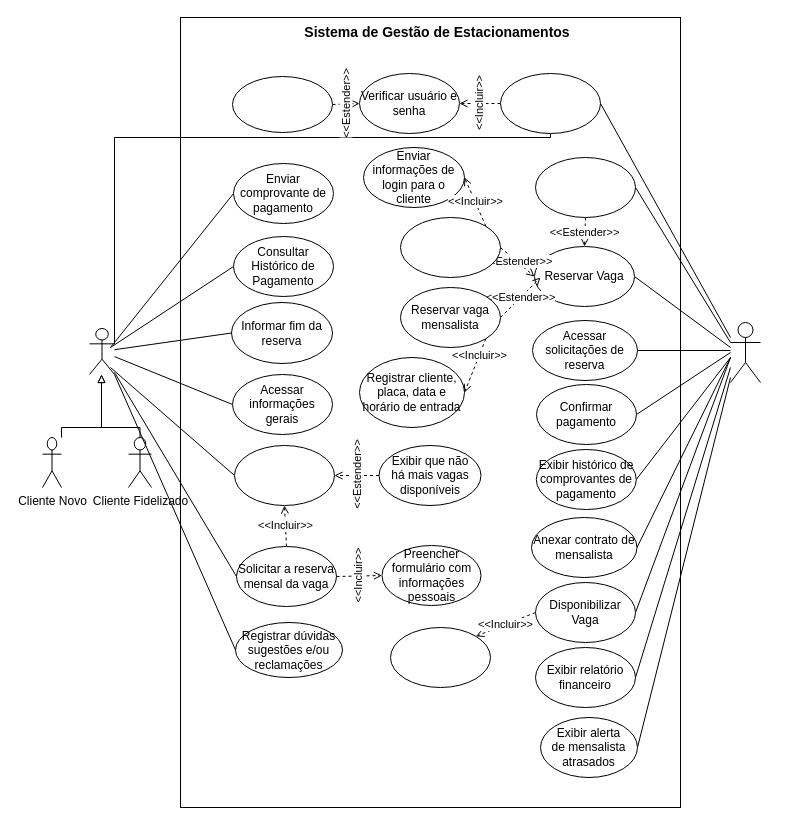
Some shapes in this 799 by 825 pixel diagram are drawn without their labels. Here are the shapes that lost their labels. From the top down, the centre of each, then its label:
At (282,104): "Informar erro de autenticação".
At (550,103): "Fazer Login".
At (585,187): "Cadastrar Cliente".
At (450,247): "Reservar vaga temporária".
At (101,351): "Cliente".
At (745,352): "Administrador".
At (284,475): "Verificar se há vagas".
At (440,657): "Exibir tempo utilizada e valor".
